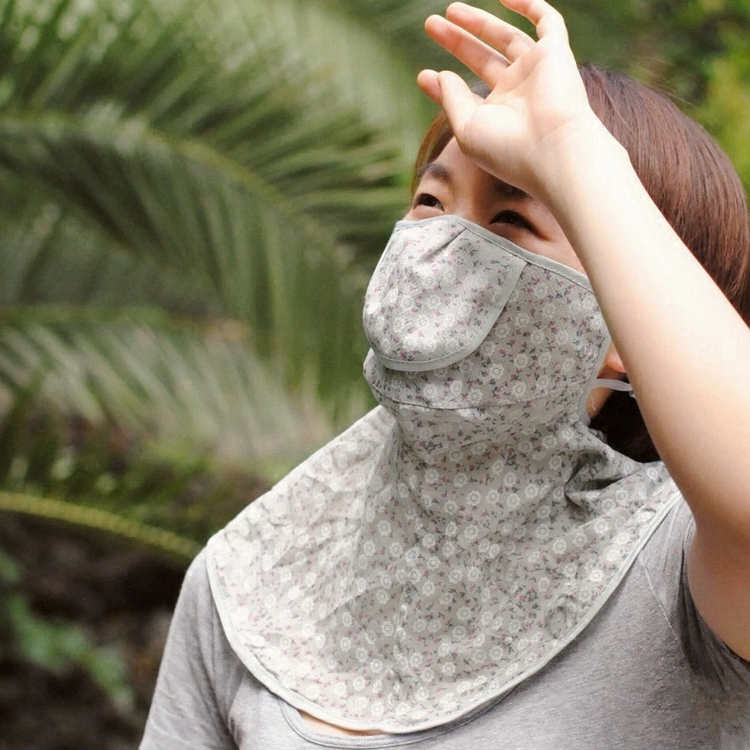face_mask: (360, 99, 612, 397)
